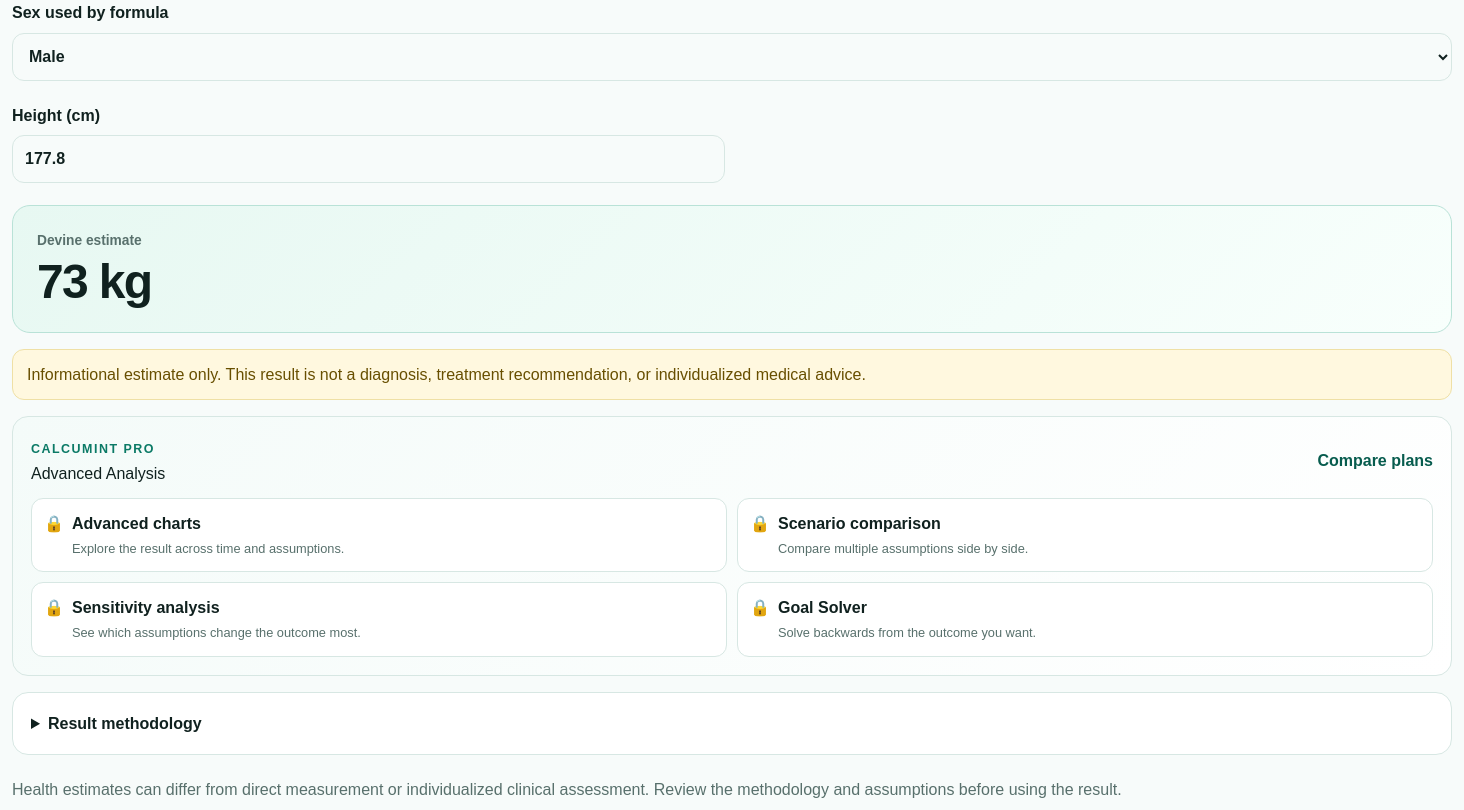
Scenario: Health batch 1 UI validation › announces a Devine-height input below the engine boundary
Replace the text in the number field labelled "Height (cm)" with "150" at (368, 159), box [12, 135, 725, 183]
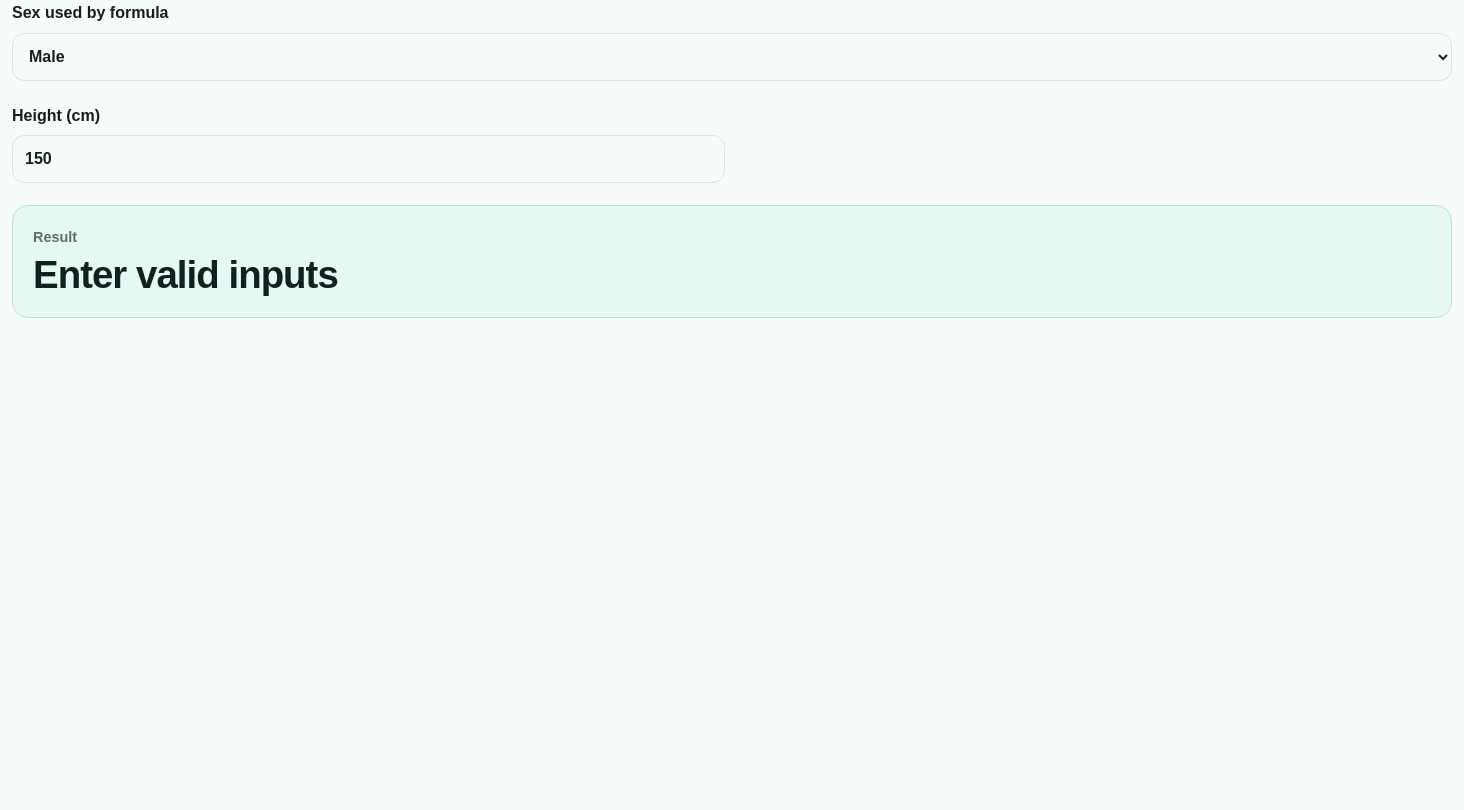
Result: the message shows "Enter valid inputs" at [33, 253, 338, 296]
